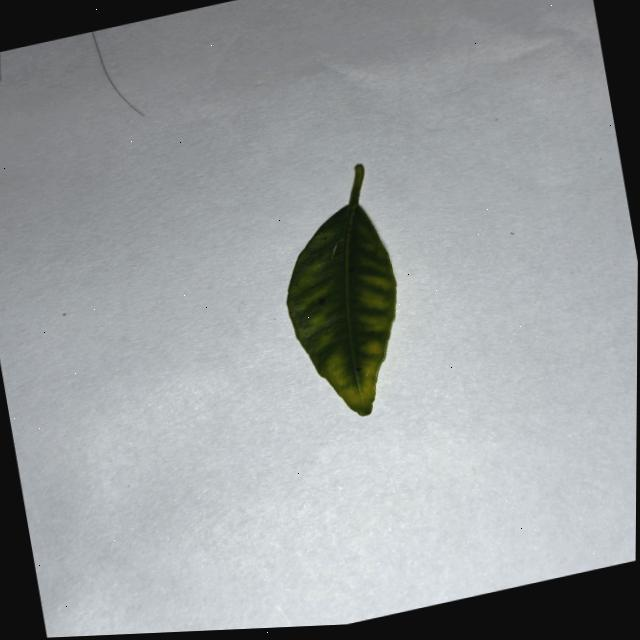greening: (287, 165, 396, 415)
